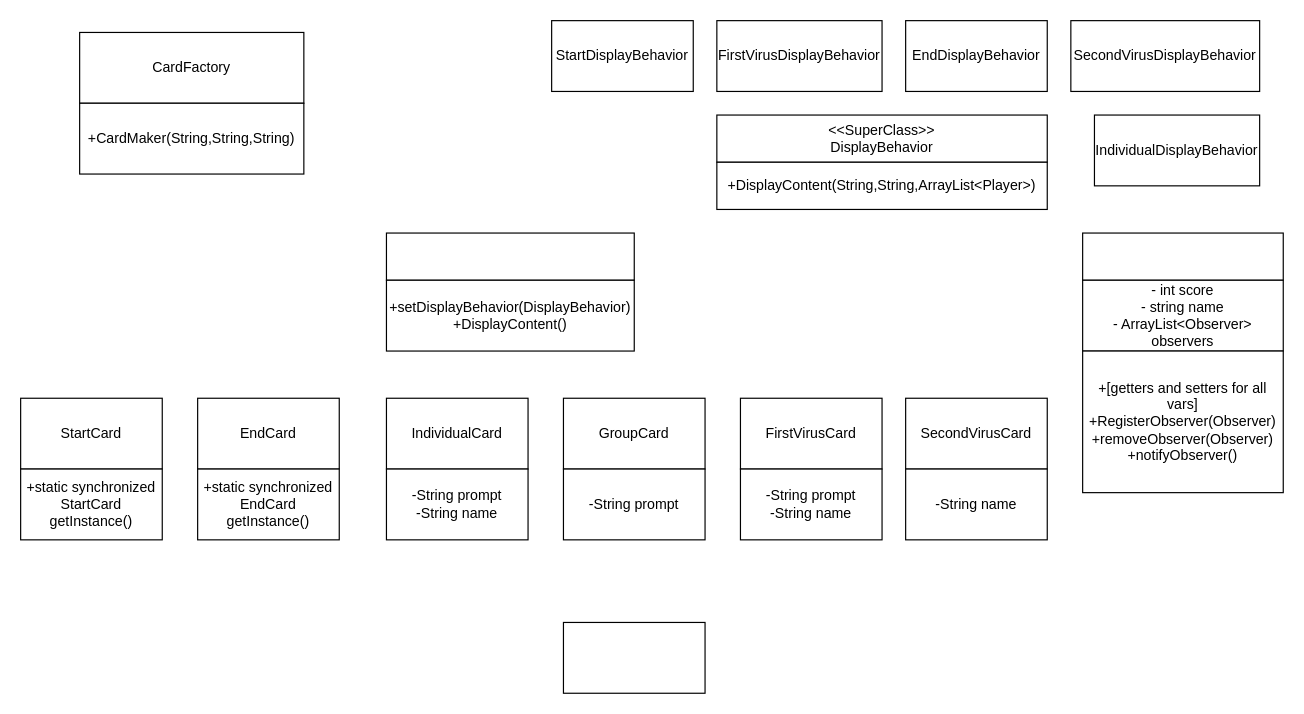
Some shapes in this 1304 by 714 pixel diagram are drawn without their labels. Each missing label, with the centre of its shape:
<<SuperClass>> Card: pixel 509 256
Player: pixel 1182 256
